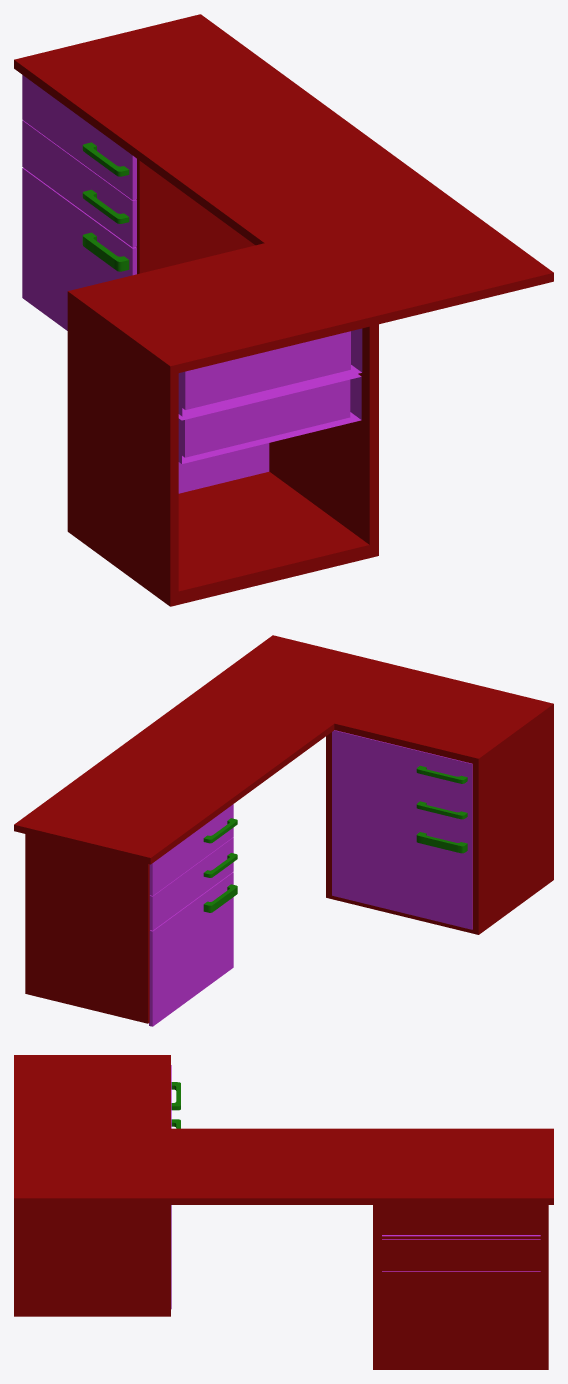
Rendered from qqa.fbx.
3 views of the same model, one above another, from view 1: azimuth 30°, elevation 25°; view 2: azimuth 150°, elevation 25°; view 3: azimuth 270°, elevation 25° (orthographic). The views are drawn at different scales.
Parts seen in each view (by area): view 1: Bureau, Tir_007, Tir_005, Tir_003, Tir_008, Tir_006, Tir_004; view 2: Bureau, Tir_004, Tir_007, Tir_003, Tir_005, Tir_008, Tir_006; view 3: Bureau.
Boxes of the visible parts, x1=… form: Bureau: x1=14, y1=14, x2=553, y2=606; Tir_007: x1=22, y1=168, x2=136, y2=330; Tir_005: x1=178, y1=374, x2=361, y2=463; Tir_003: x1=178, y1=328, x2=362, y2=416; Tir_008: x1=22, y1=120, x2=136, y2=247; Tir_006: x1=22, y1=75, x2=136, y2=200; Tir_004: x1=178, y1=443, x2=269, y2=493; Bureau: x1=14, y1=635, x2=553, y2=1023; Tir_004: x1=332, y1=801, x2=472, y2=929; Tir_007: x1=149, y1=872, x2=237, y2=1026; Tir_003: x1=332, y1=730, x2=472, y2=799; Tir_005: x1=332, y1=766, x2=472, y2=834; Tir_008: x1=149, y1=837, x2=237, y2=930; Tir_006: x1=149, y1=804, x2=237, y2=895; Bureau: x1=14, y1=1055, x2=553, y2=1369.
Size of the model in its own units: 116 by 69.75 by 186.
